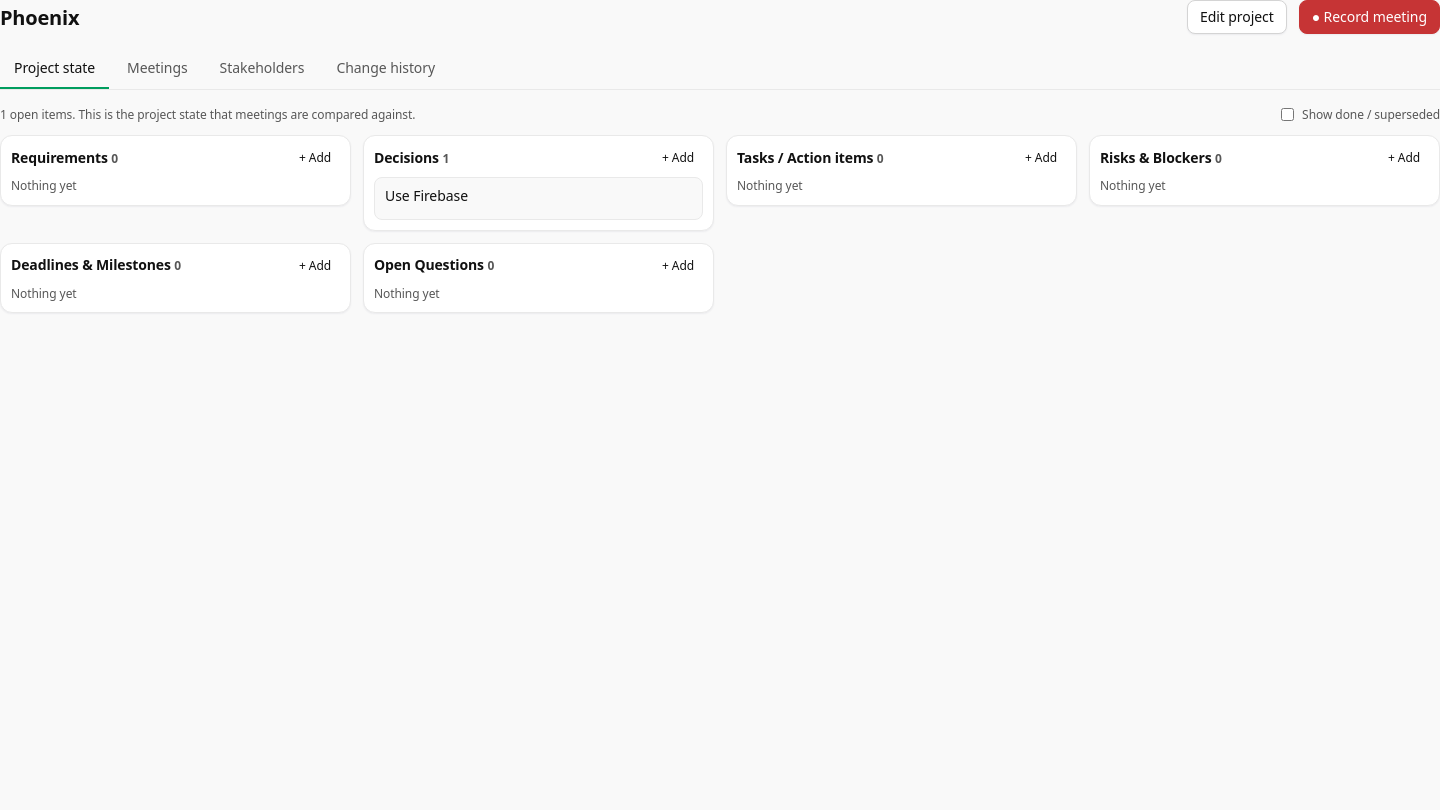
project page › shows why saving an item failed and keeps the dialog open
Click the button "Use Firebase": x=426, y=196 [374,177,703,220]
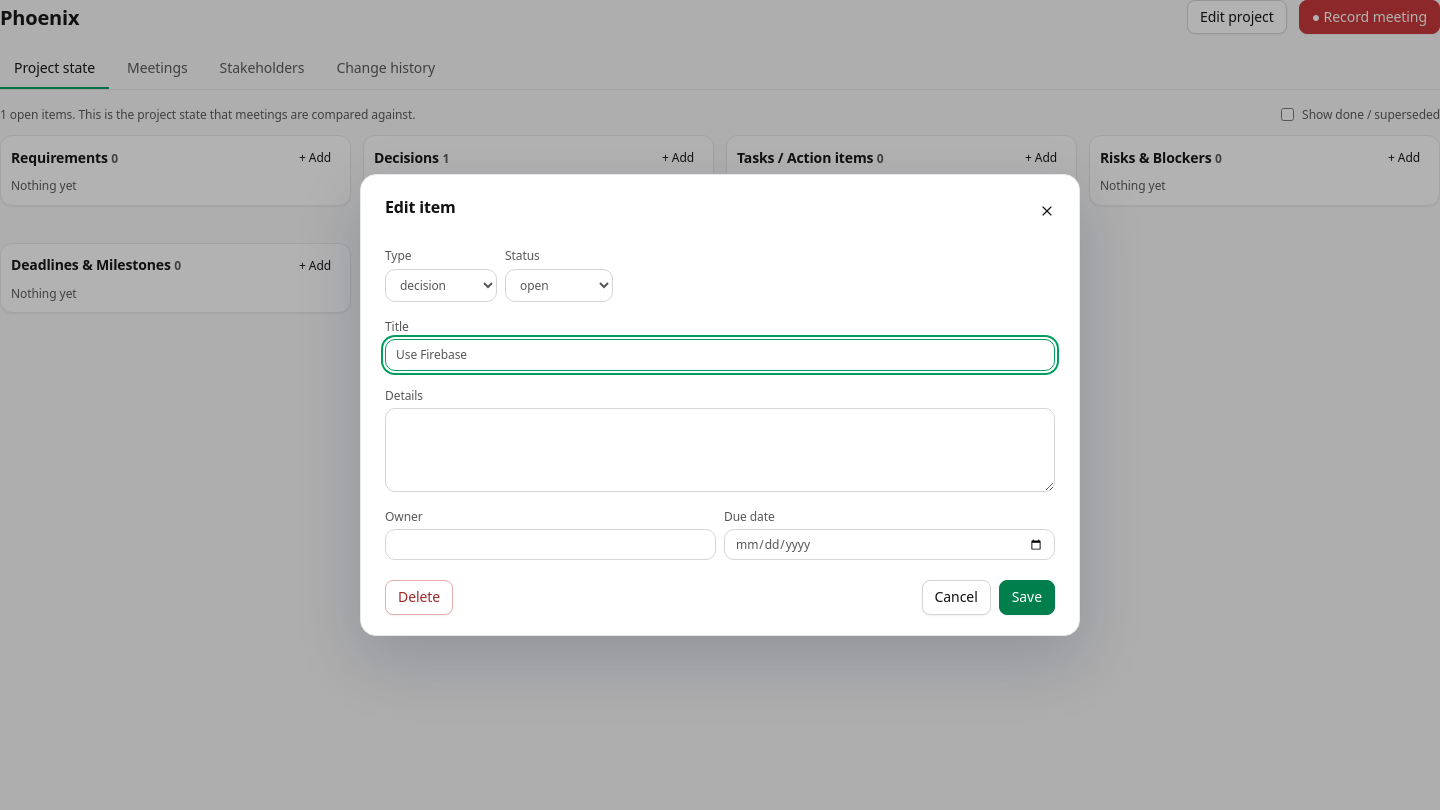
Click the button "Save": x=1027, y=597 [999,580,1055,615]
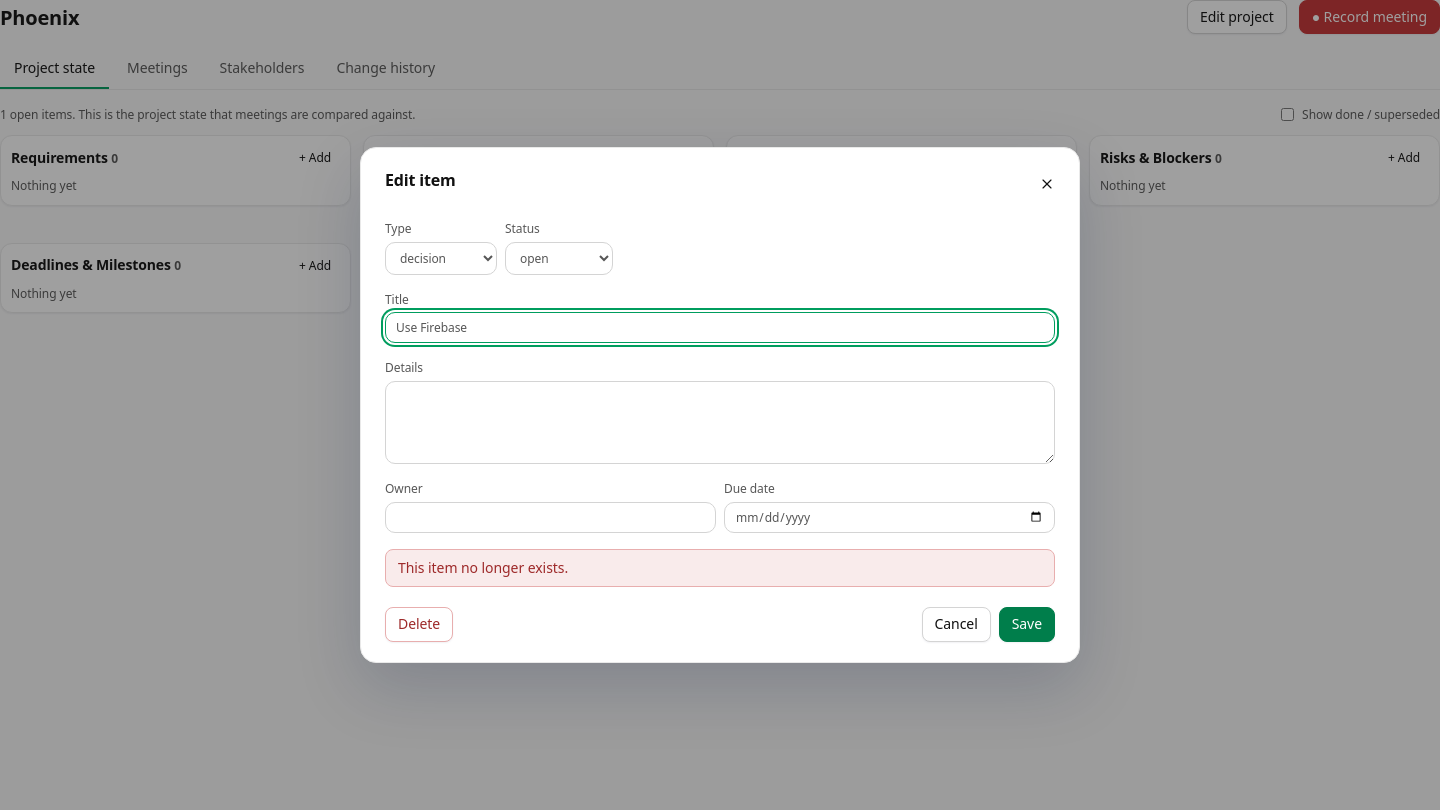
Check: the text "This item no longer exists." is shown, box [385,549,1055,588]
